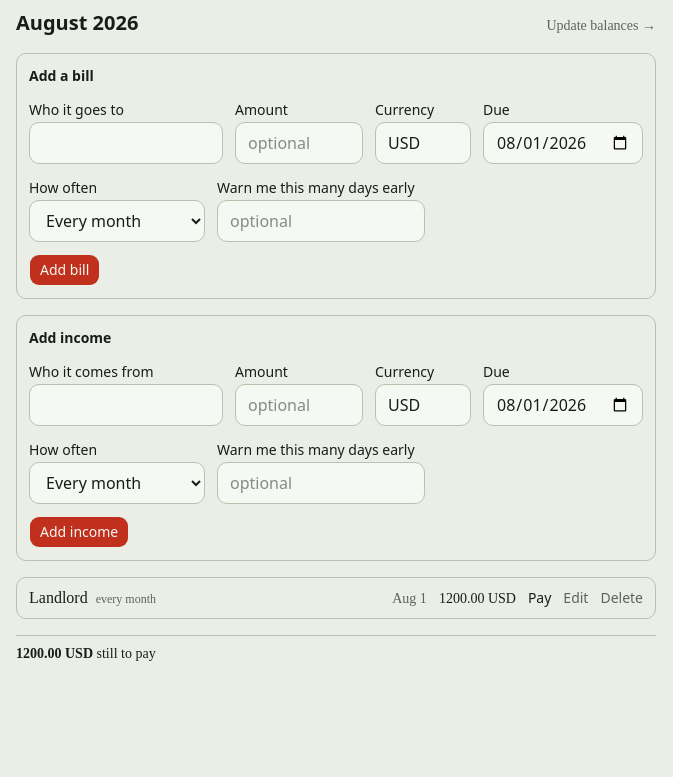
Test case: MoneyRoute, editing this bill or the arrangement › asks nothing of a one-off
The image size is (673, 777).
Click the button with aria-label "Edit Landlord" at (576, 598), box [563, 588, 588, 608]
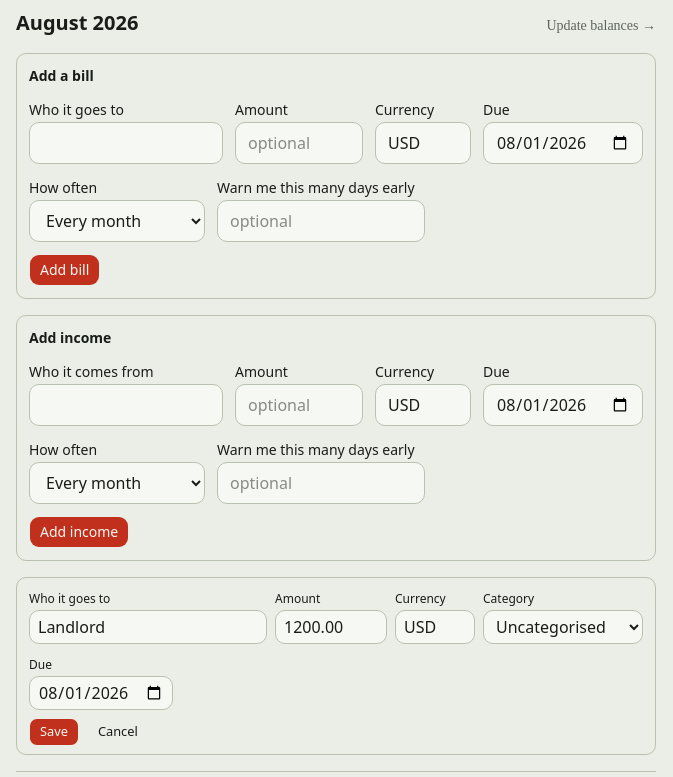
expect the button "Save" is shown: met, box [29, 718, 79, 746]
